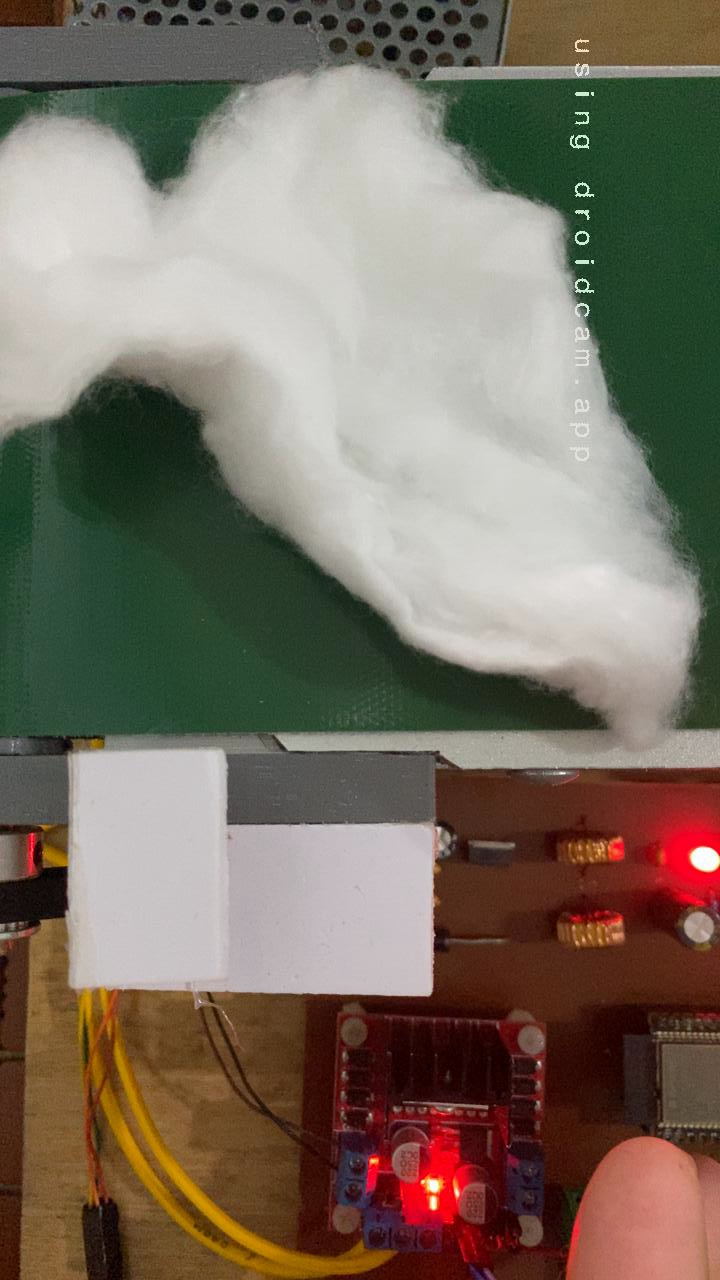cotton: (0, 80, 712, 731)
